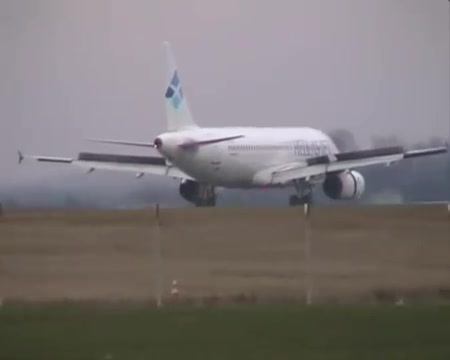aeroplane: (18, 41, 448, 209)
